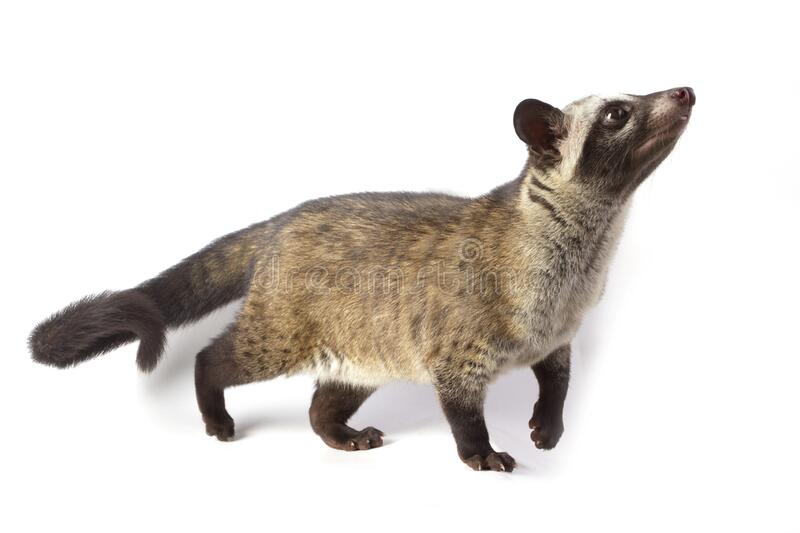Civet: (3, 51, 717, 487)
